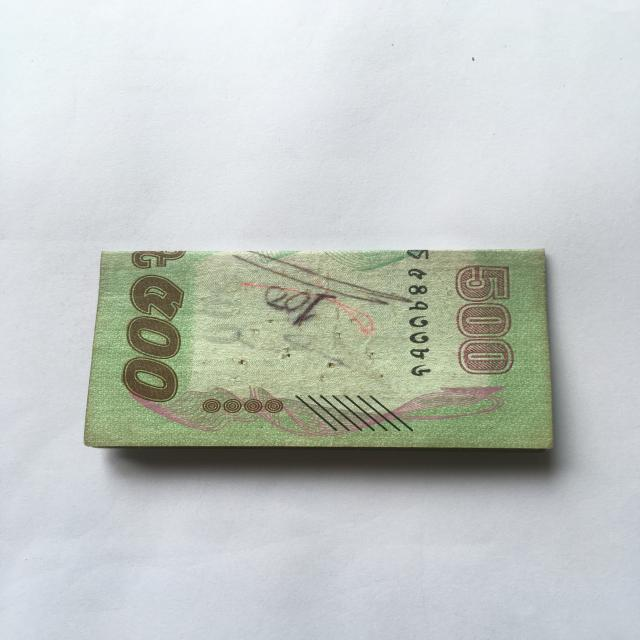Taka: (90, 248, 549, 444)
